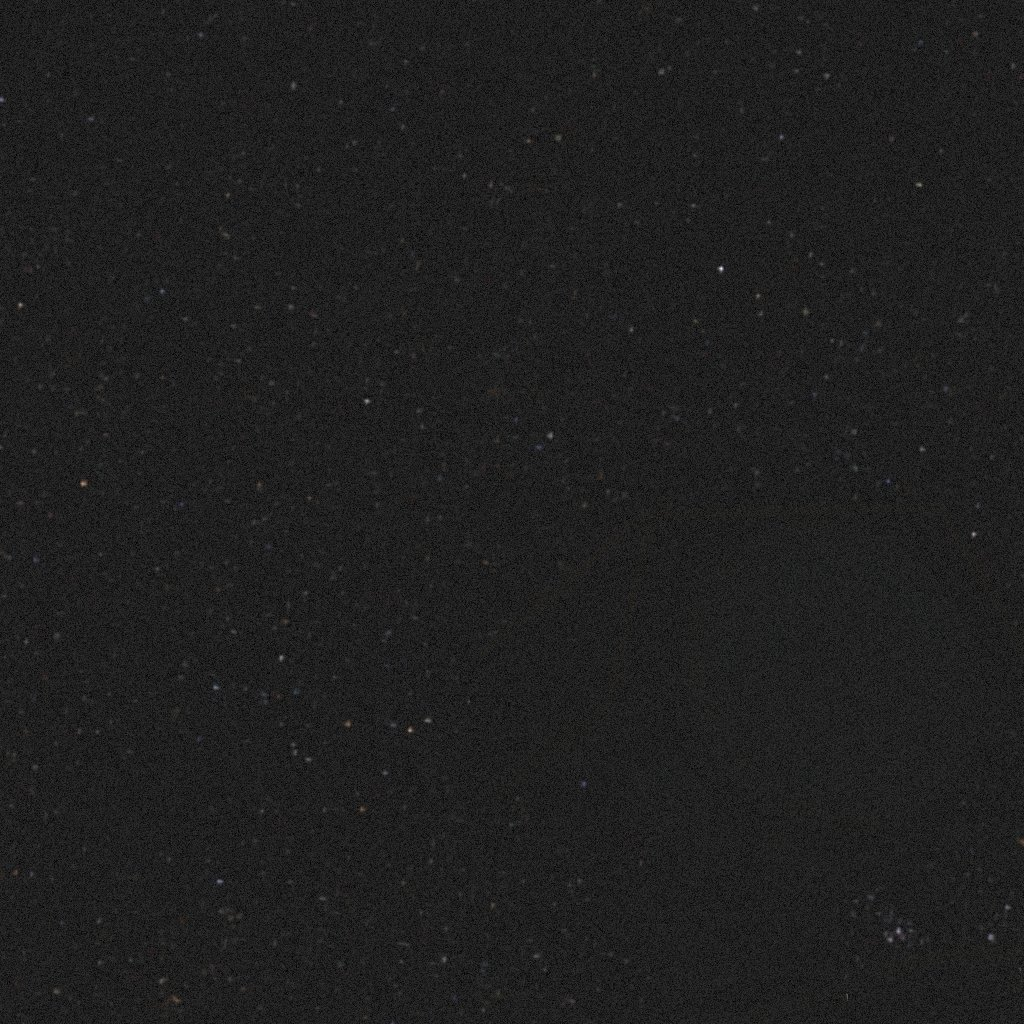cheops: (462, 502, 1024, 1024)
